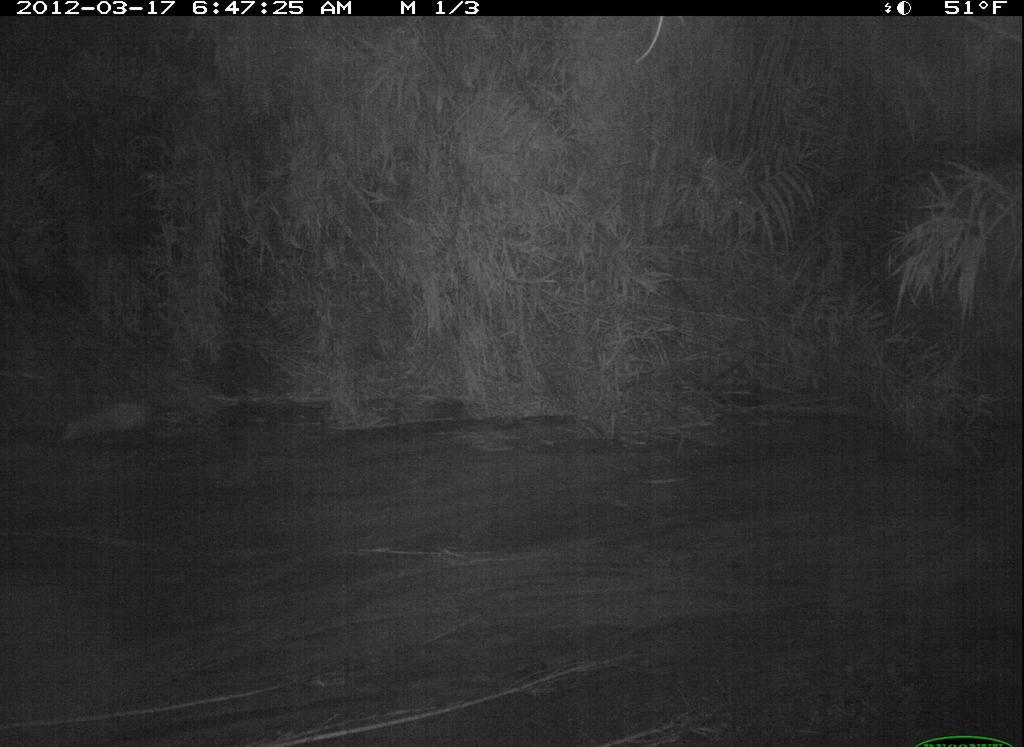opossum: (58, 373, 172, 455)
